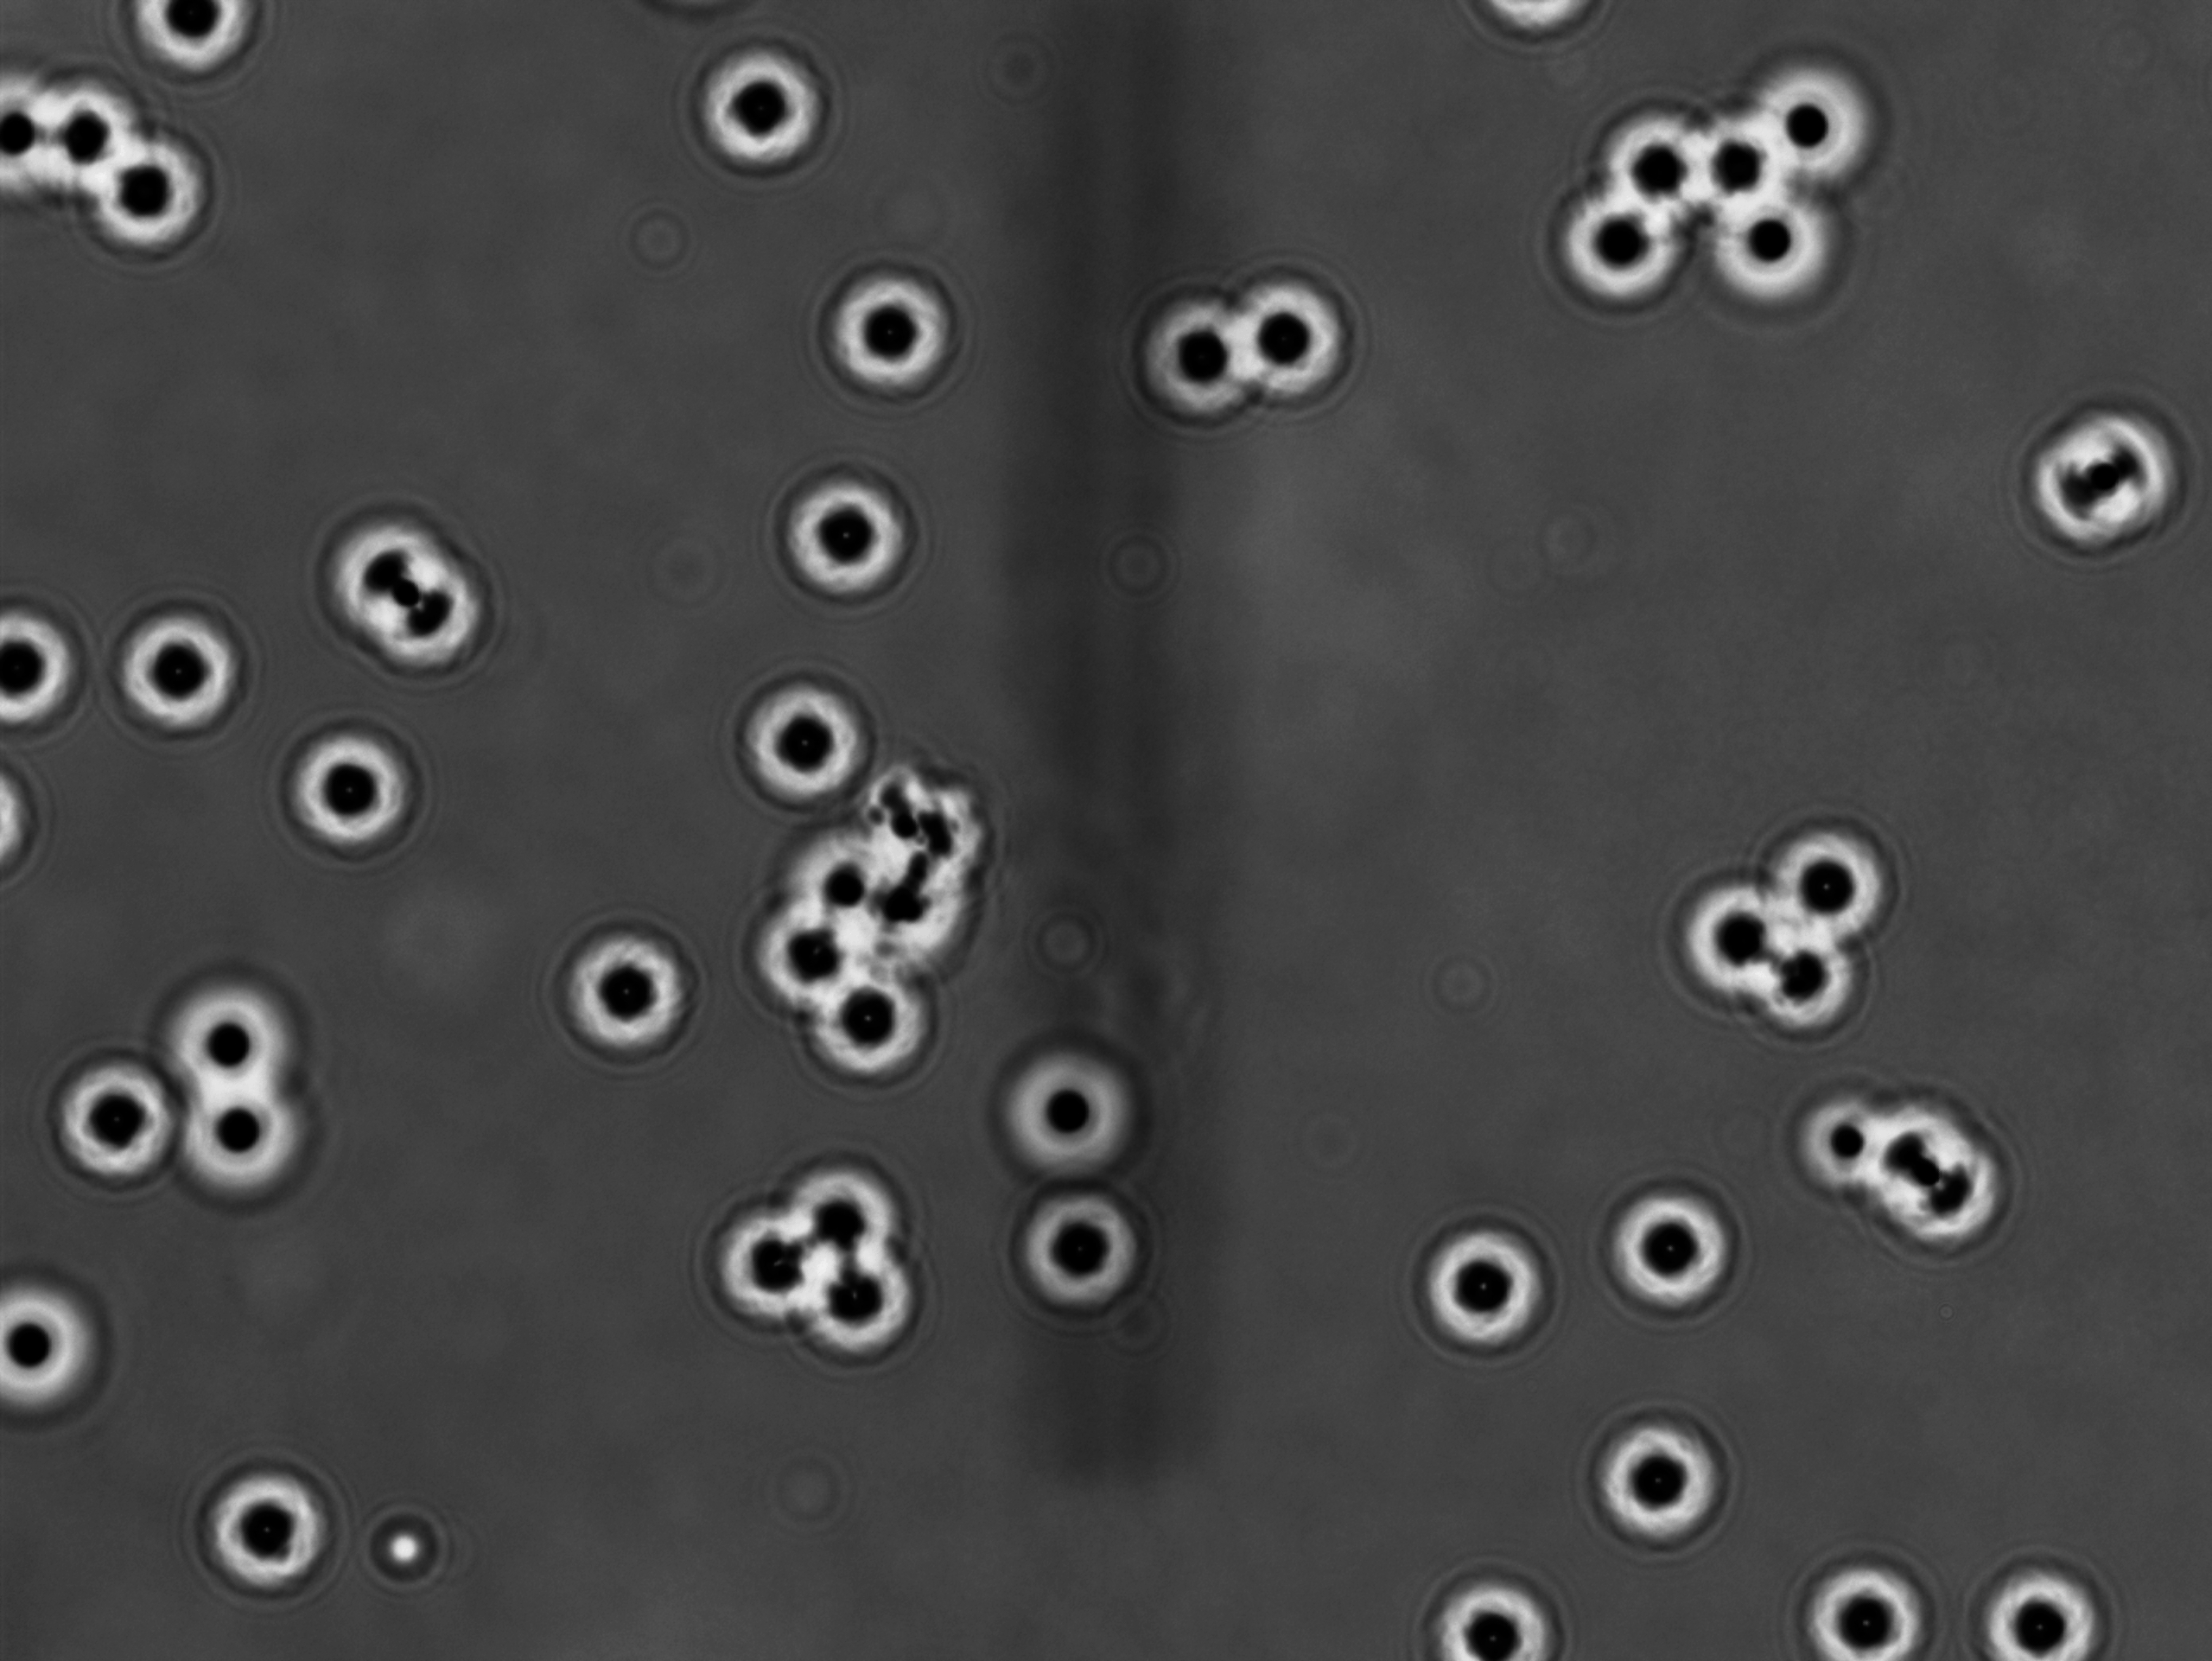depth:-20: (197, 1446, 361, 1610), (806, 253, 972, 410), (101, 584, 260, 745), (553, 907, 715, 1064), (1399, 1202, 1561, 1359), (1580, 1408, 1750, 1556), (1123, 277, 1277, 440), (761, 448, 918, 605), (1000, 1171, 1155, 1329), (731, 654, 886, 808), (1673, 68, 1828, 220), (274, 715, 426, 865), (1600, 1179, 1748, 1333), (1230, 249, 1366, 415), (687, 37, 832, 192), (1532, 178, 1692, 318), (1765, 808, 1910, 953), (35, 1047, 180, 1190), (1669, 865, 1809, 1014), (1781, 1532, 1935, 1661), (1959, 1553, 2128, 1661), (82, 126, 216, 260), (1403, 1558, 1568, 1661)
